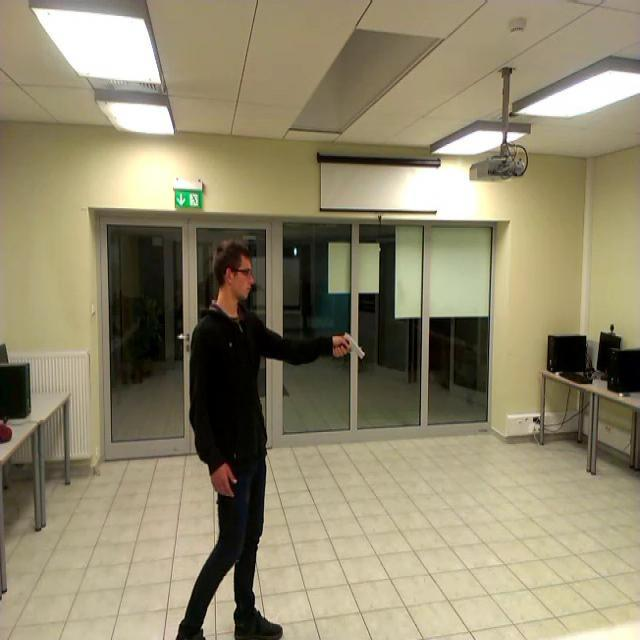weapon: (334, 335, 366, 360)
